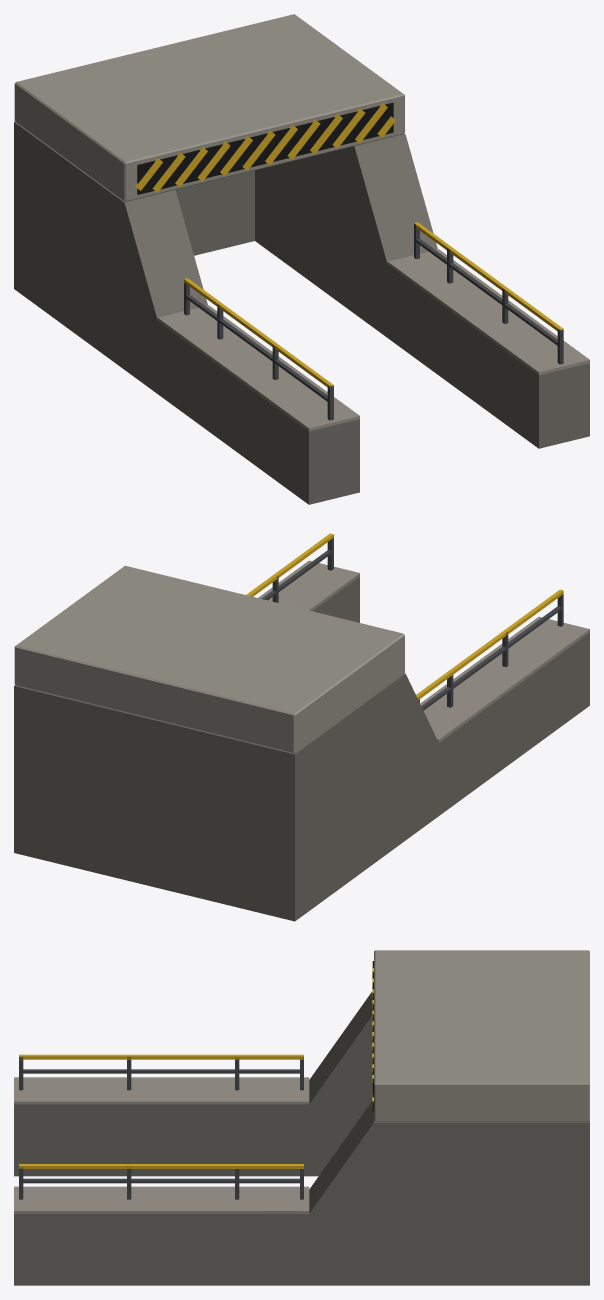
Rendered from stair_hut.fbx.
The picture shows the model from 3 angles, top to bottom: view 1: azimuth 30°, elevation 25°; view 2: azimuth 150°, elevation 25°; view 3: azimuth 270°, elevation 25°; orthographic projection. The views are drawn at different scales.
Visible parts, largest first — view 1: stair_hut; view 2: stair_hut; view 3: stair_hut.
Part boxes in pixels (x1,y1,x2,y2): stair_hut: [14, 14, 589, 504]; stair_hut: [14, 533, 589, 921]; stair_hut: [14, 950, 589, 1285].
Size of the model in its own units: 4.4 by 3.1 by 8.
